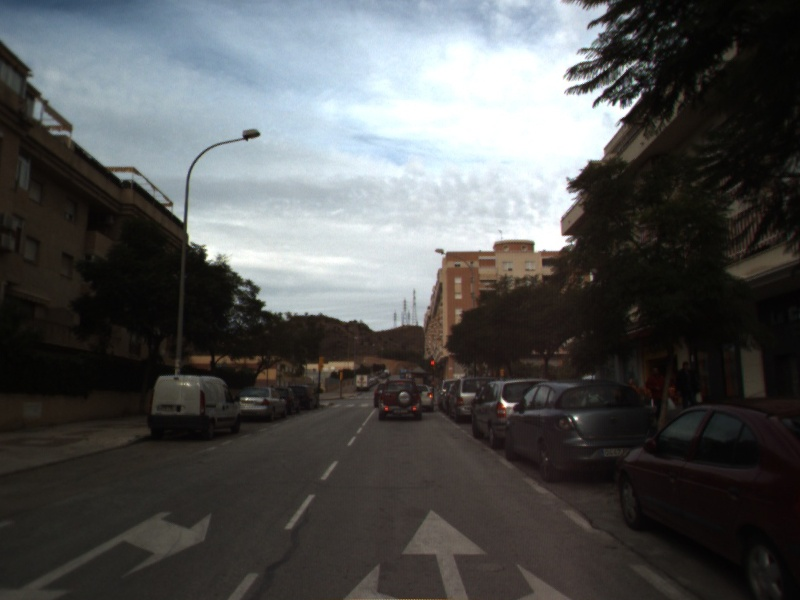STRAIGHT_LEFT_RIGHT: (338, 507, 577, 600)
